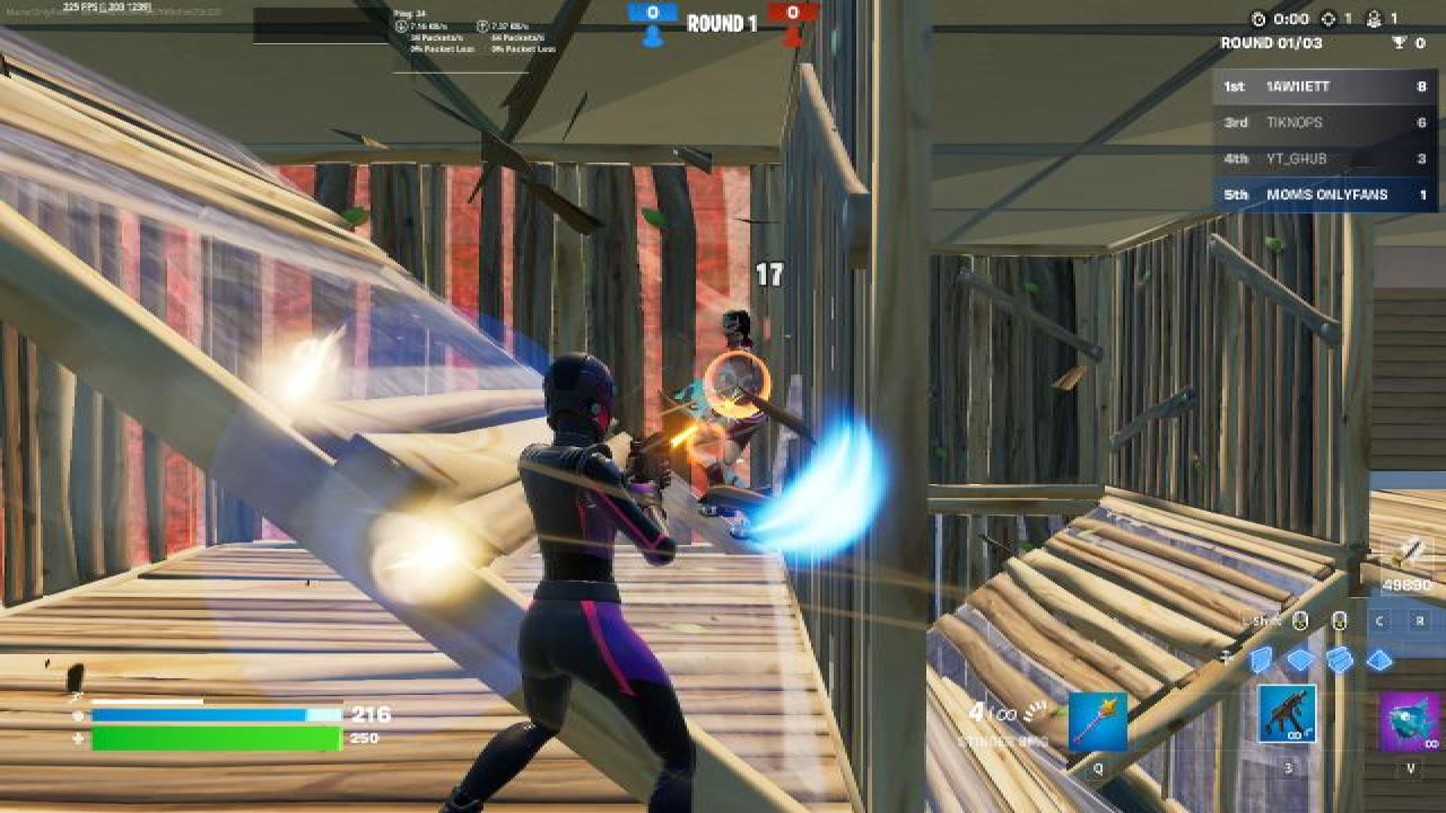player: (671, 303, 798, 536)
